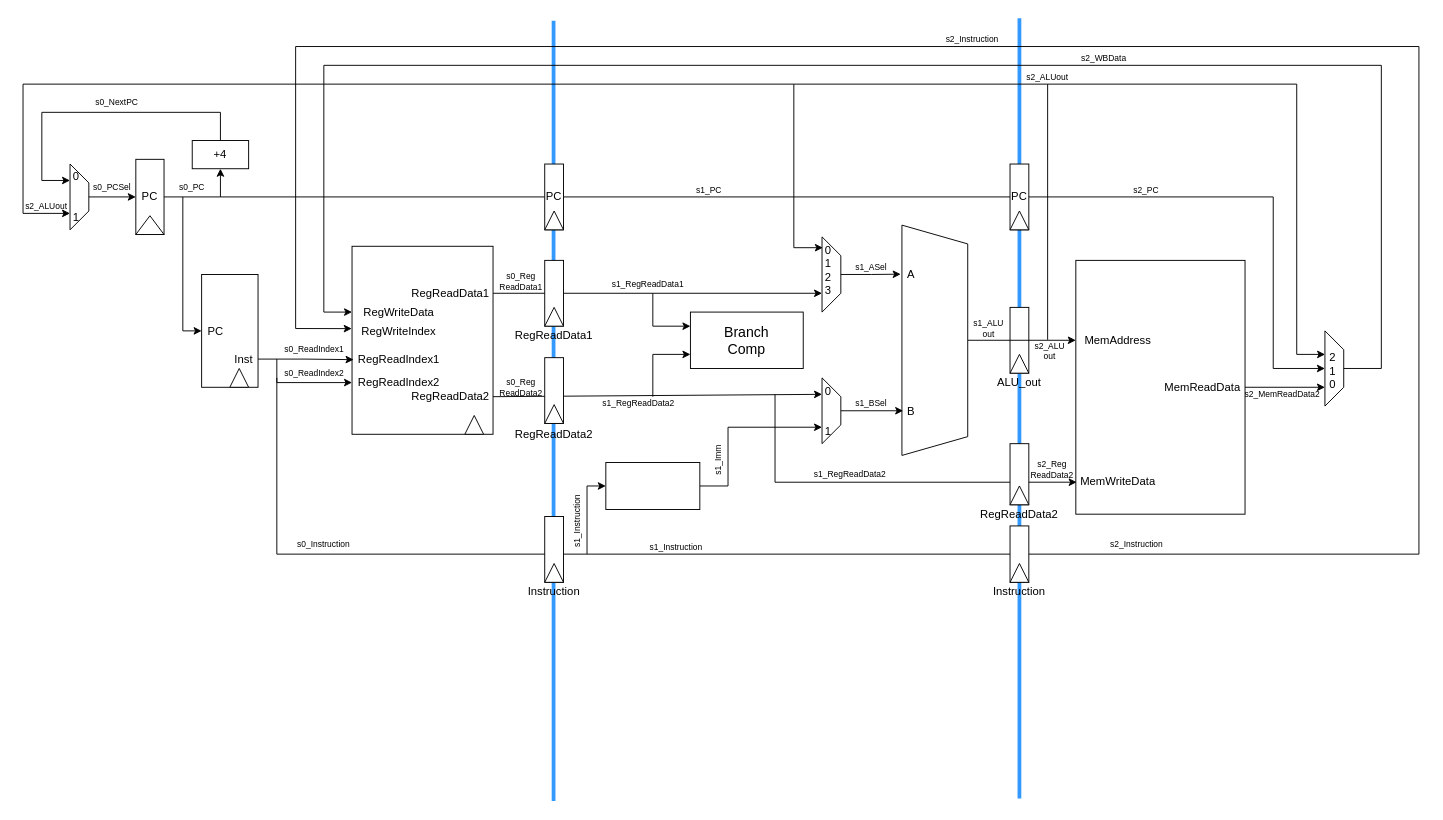
This 1443x820 diagram has some shape labels left out. The shapes that lost their labels are listed below. From the top down, each one's box as (x1, y1, x2, y2) in pixels, then its label:
(201, 274, 258, 387): IMEM
(351, 245, 493, 434): RegFile
(901, 224, 968, 455): ALU
(1075, 259, 1245, 514): DMEM
(605, 462, 700, 509): Imm Gen
